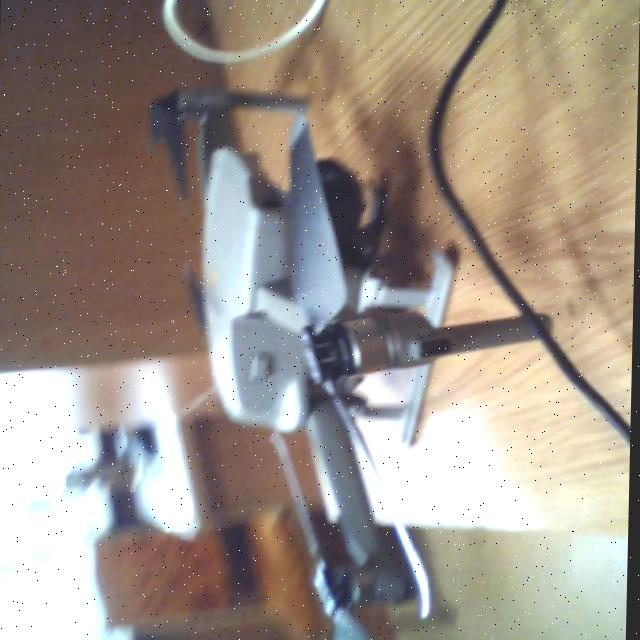drone: (131, 28, 545, 640)
